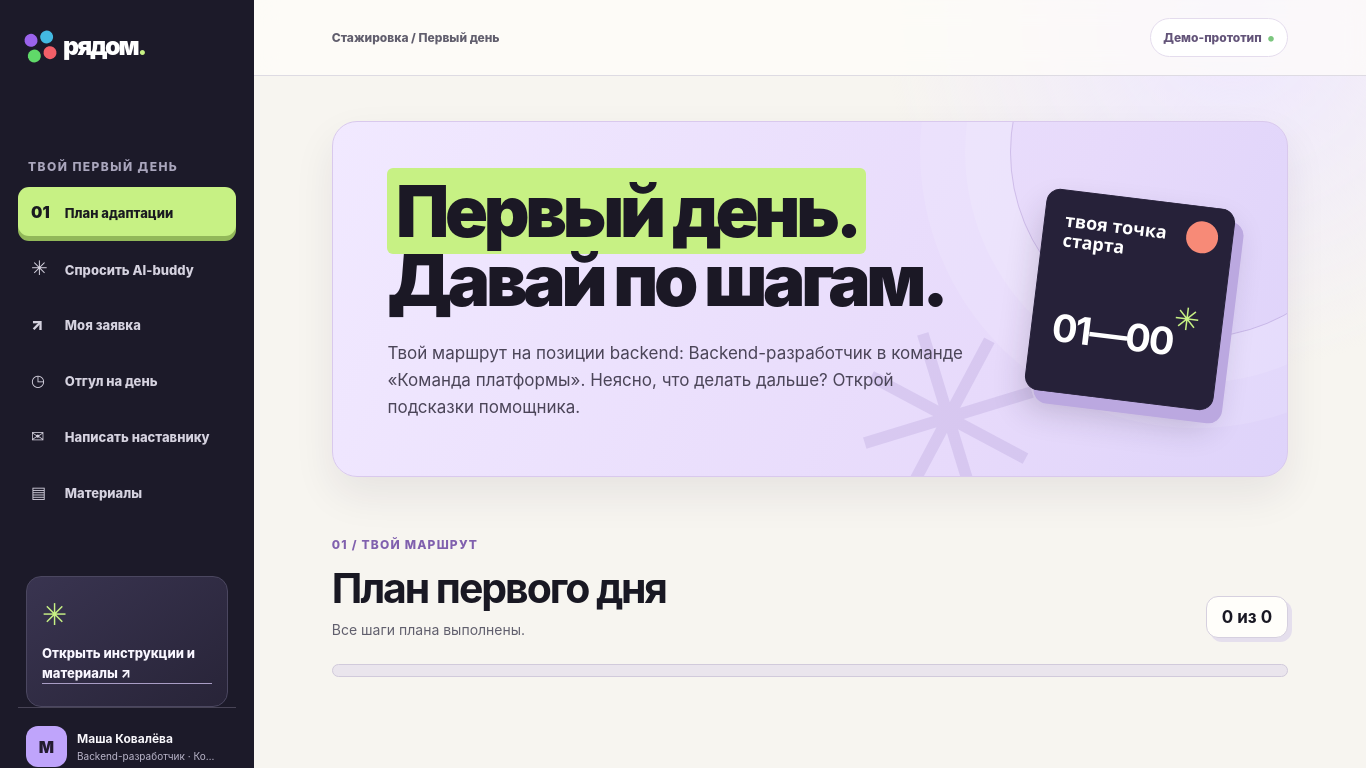
it: handles an empty route and explains that no access request or instructions exist
Expected: the text "Все шаги плана выполнены." is shown, [332,621,525,638]
Click the button "↗ Моя заявка": (127, 324) [18,299,236,348]
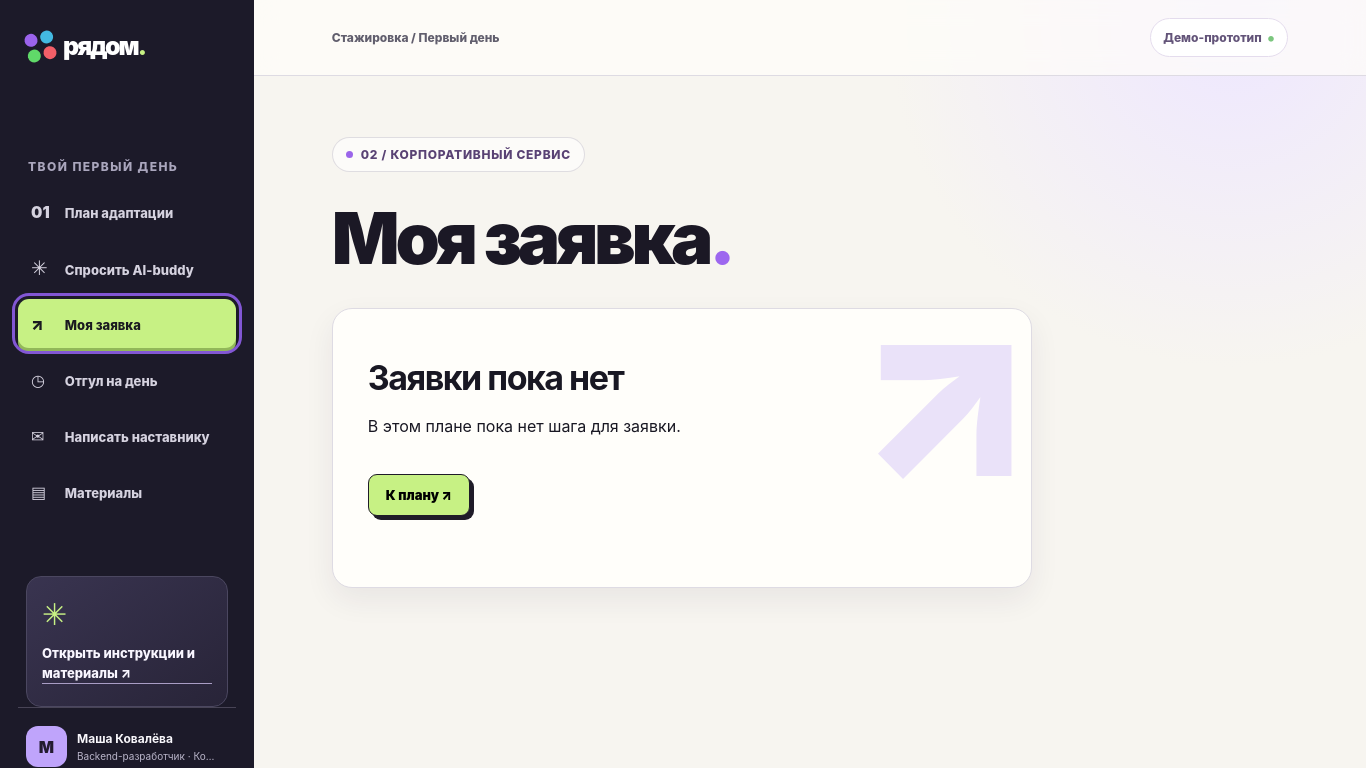
Expected: the text "В этом плане пока нет шага для заявки." is shown, [368,416,681,436]
Click the button "▤ Материалы": (127, 492) [18,467,236,516]
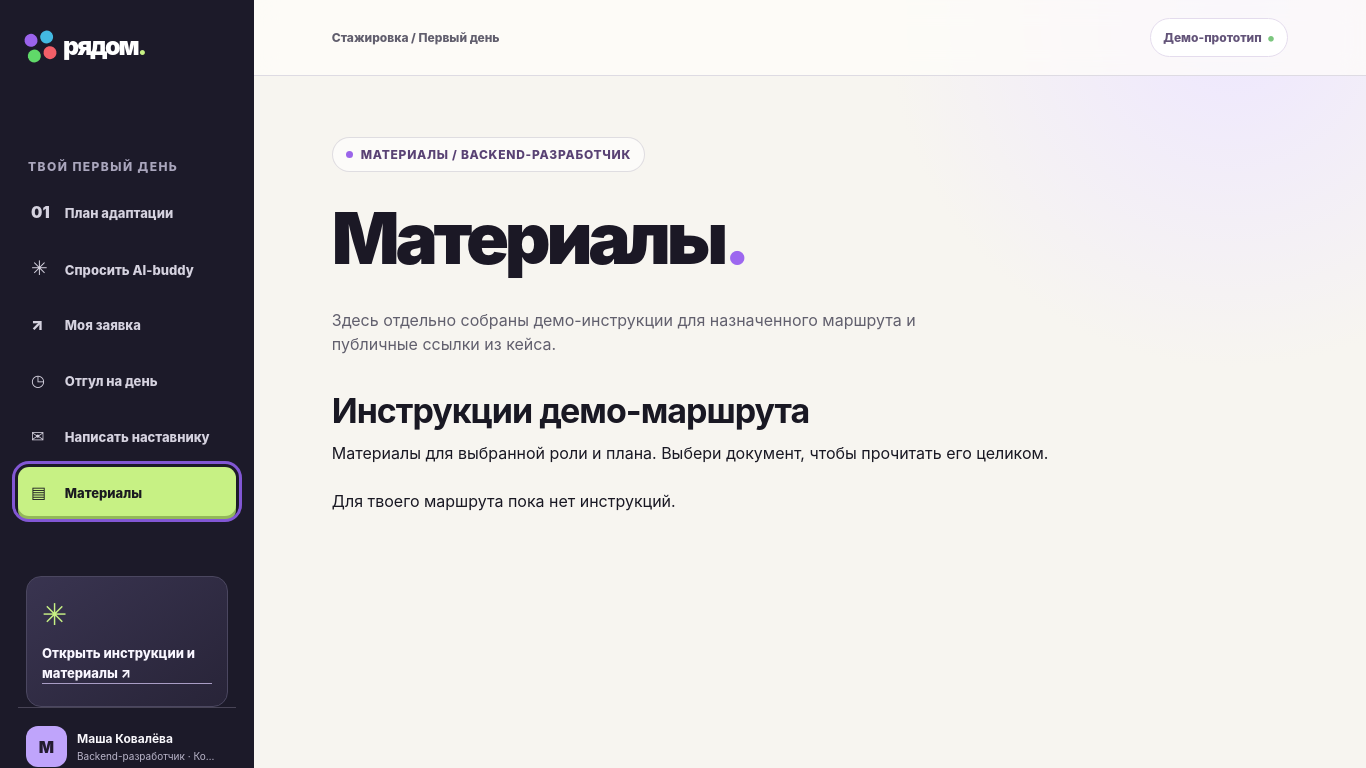
Expected: the text "Для твоего маршрута пока нет инструкций." is shown, [332,491,676,511]
